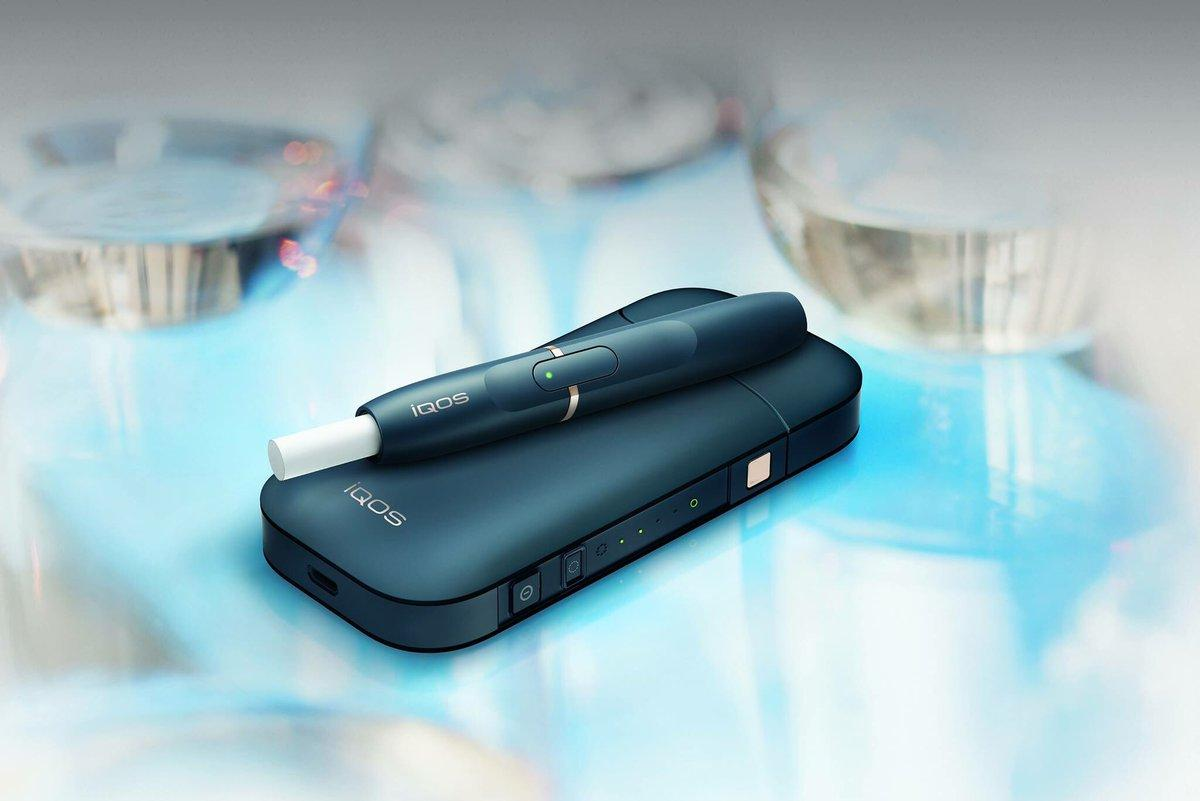iqos: (269, 294, 806, 480)
